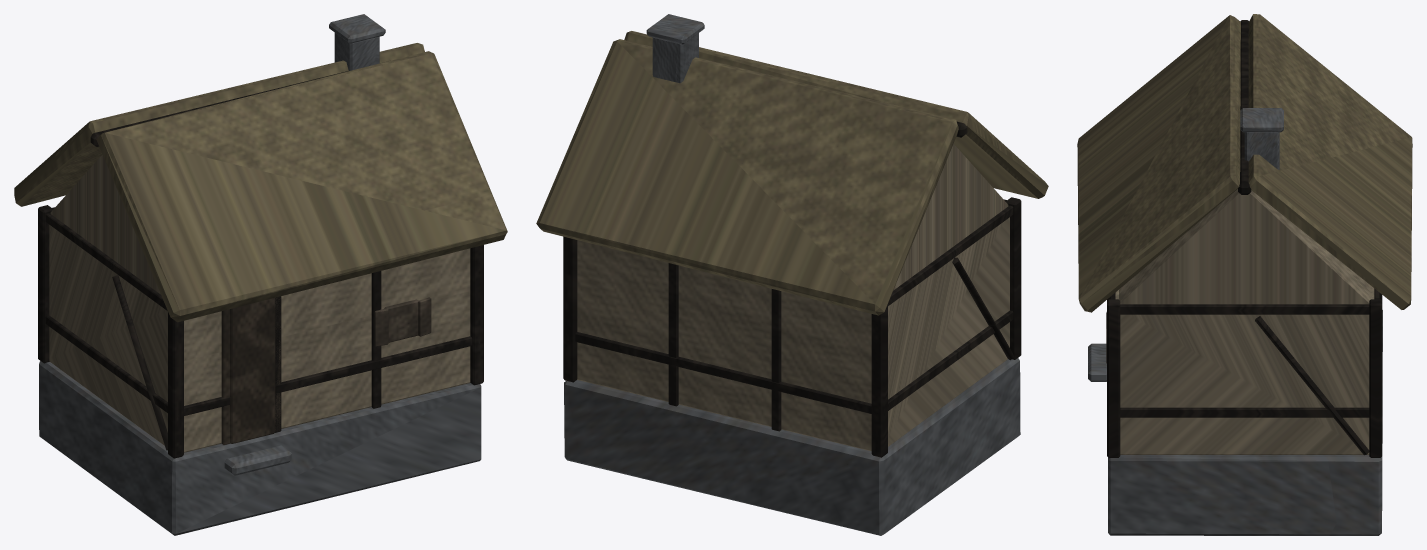
File: cottage.glb
3 views of the same model, side by side, from view 1: azimuth 30°, elevation 25°; view 2: azimuth 150°, elevation 25°; view 3: azimuth 270°, elevation 25° (orthographic). The views are drawn at different scales.
Visible parts, largest first — view 1: cottage; view 2: cottage; view 3: cottage.
Boxes of the visible parts, left/top/right/bottom form: cottage: left=14, top=14, right=507, bottom=535; cottage: left=536, top=14, right=1048, bottom=535; cottage: left=1077, top=14, right=1412, bottom=535.
Bounding box in the file's own units: 3.51 × 3.91 × 2.99.
Materials: 2 (2 with a texture image).
